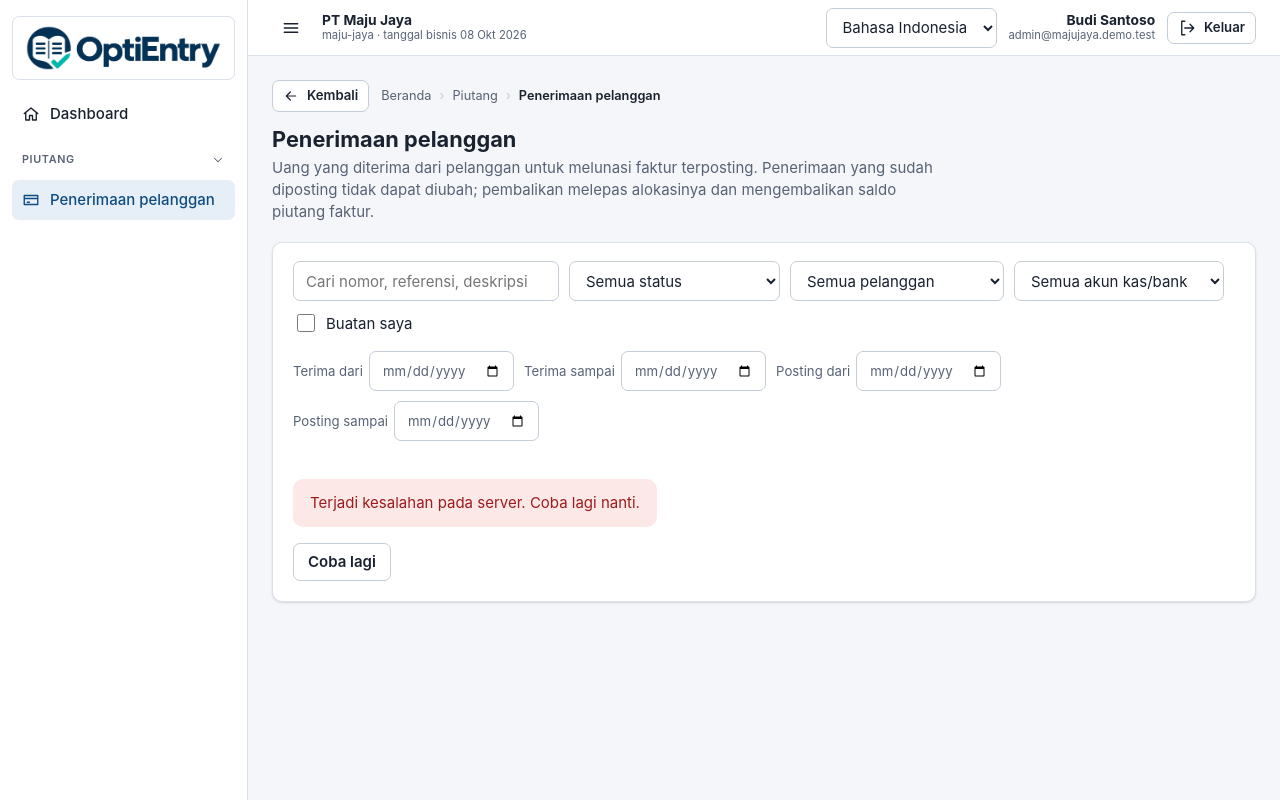
Scenario: customer receipt list › shows an error with a retry, and an empty state
Expected: the text "Terjadi kesalahan pada server. Coba lagi nanti." is shown, [310,492,640,514]
Click the button "Coba lagi": (342, 562) [293,543,391,581]
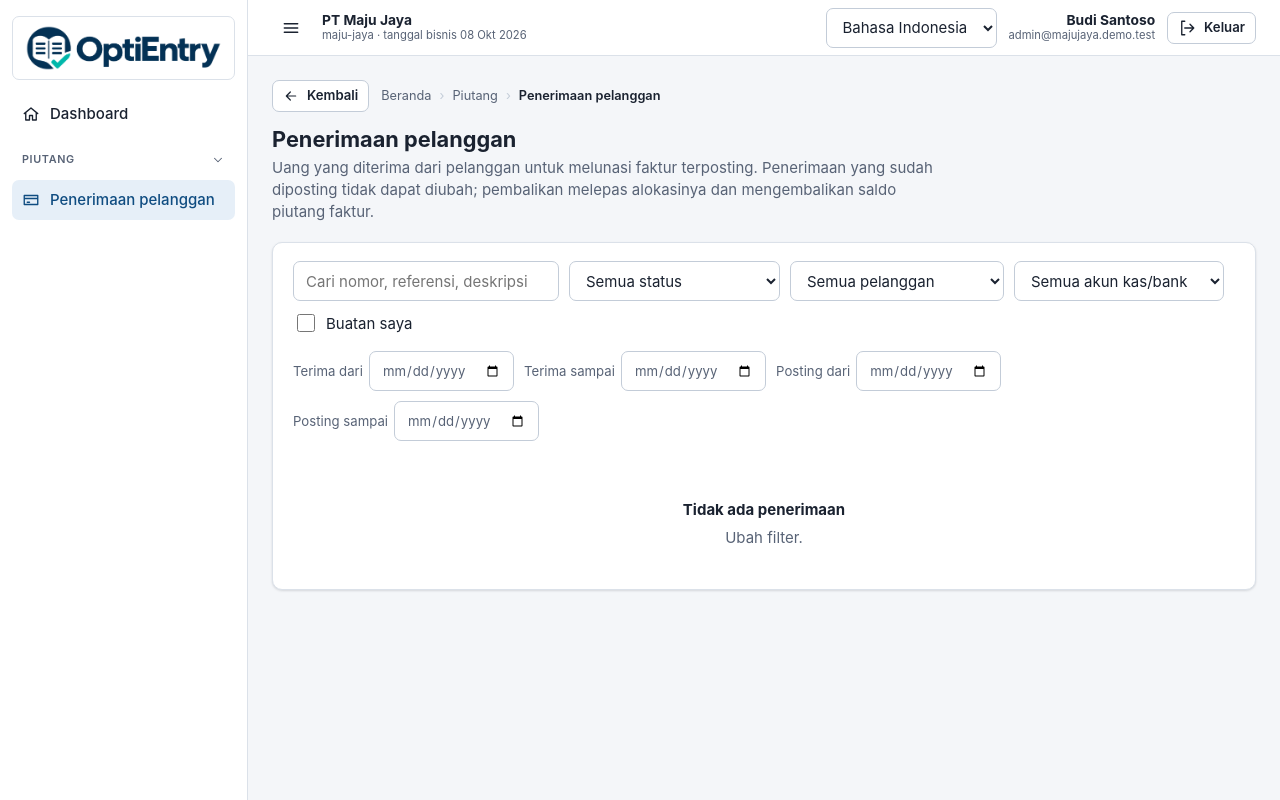
Expected: the text "Tidak ada penerimaan" is shown, [683,499,845,521]
